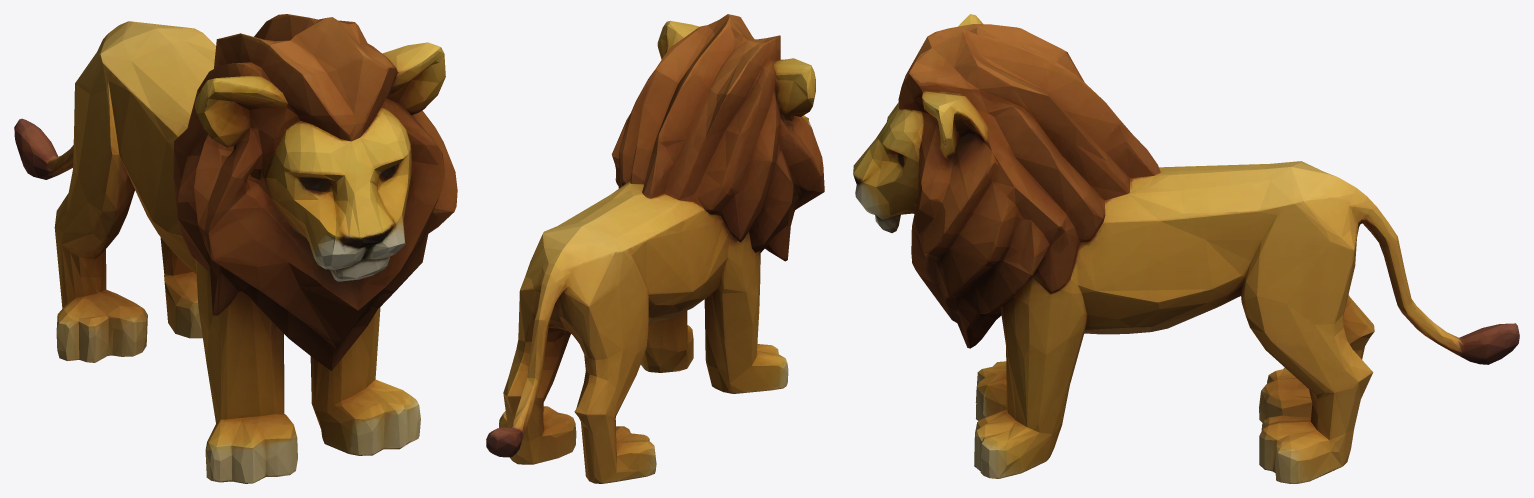
File: lion_variant.glb
The picture shows the model from 3 angles, left to right: view 1: azimuth 30°, elevation 25°; view 2: azimuth 150°, elevation 25°; view 3: azimuth 270°, elevation 25°; orthographic projection. The views are drawn at different scales.
Visible parts, largest first — view 1: world; view 2: world; view 3: world.
Boxes of the visible parts, left/top/right/bottom form: world: left=14, top=14, right=457, bottom=483; world: left=486, top=14, right=824, bottom=483; world: left=853, top=14, right=1519, bottom=483.
Bounding box in the file's own units: 0.3755 × 0.6686 × 0.999.
1 material, 1 textured.
